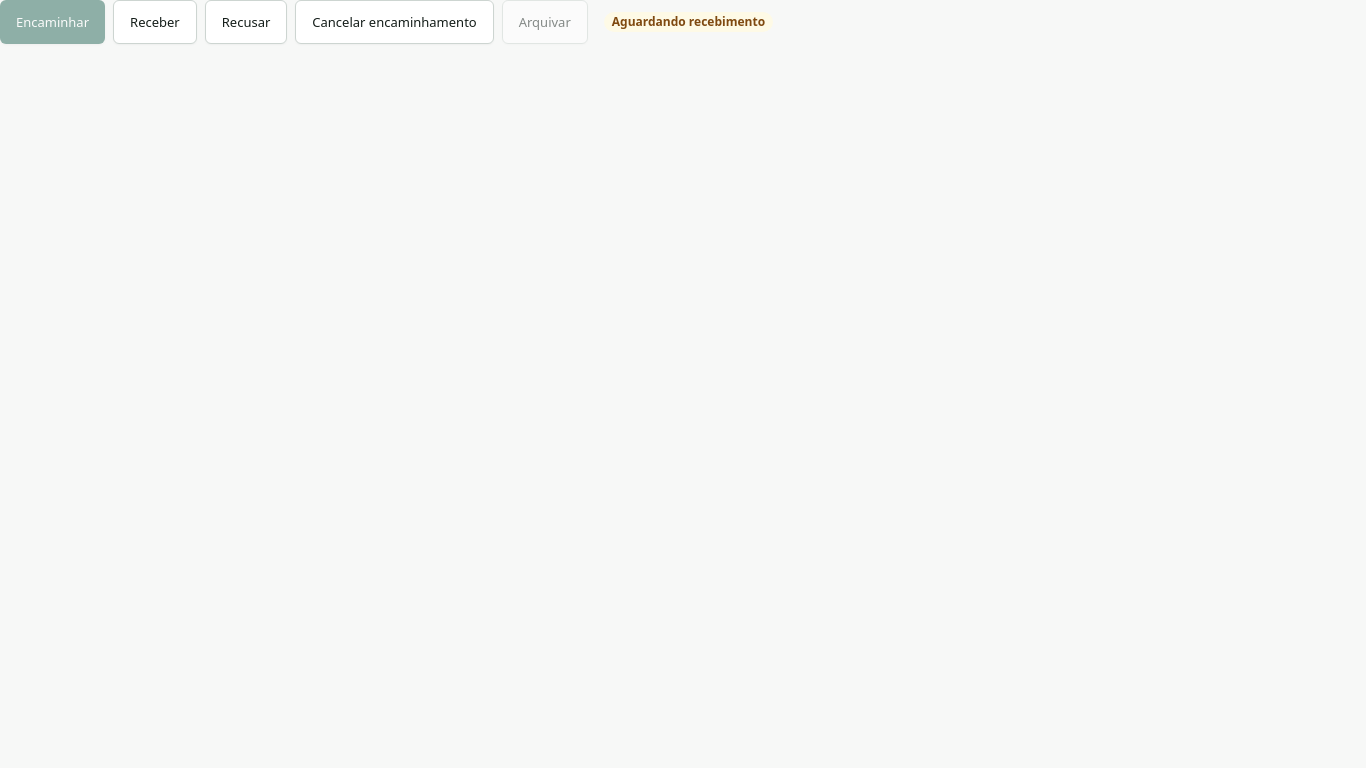
Test: recusar encaminhamento › envia o motivo sem espaços nas pontas e fecha
Click the button "Recusar" at (246, 22), box [205,0,287,44]
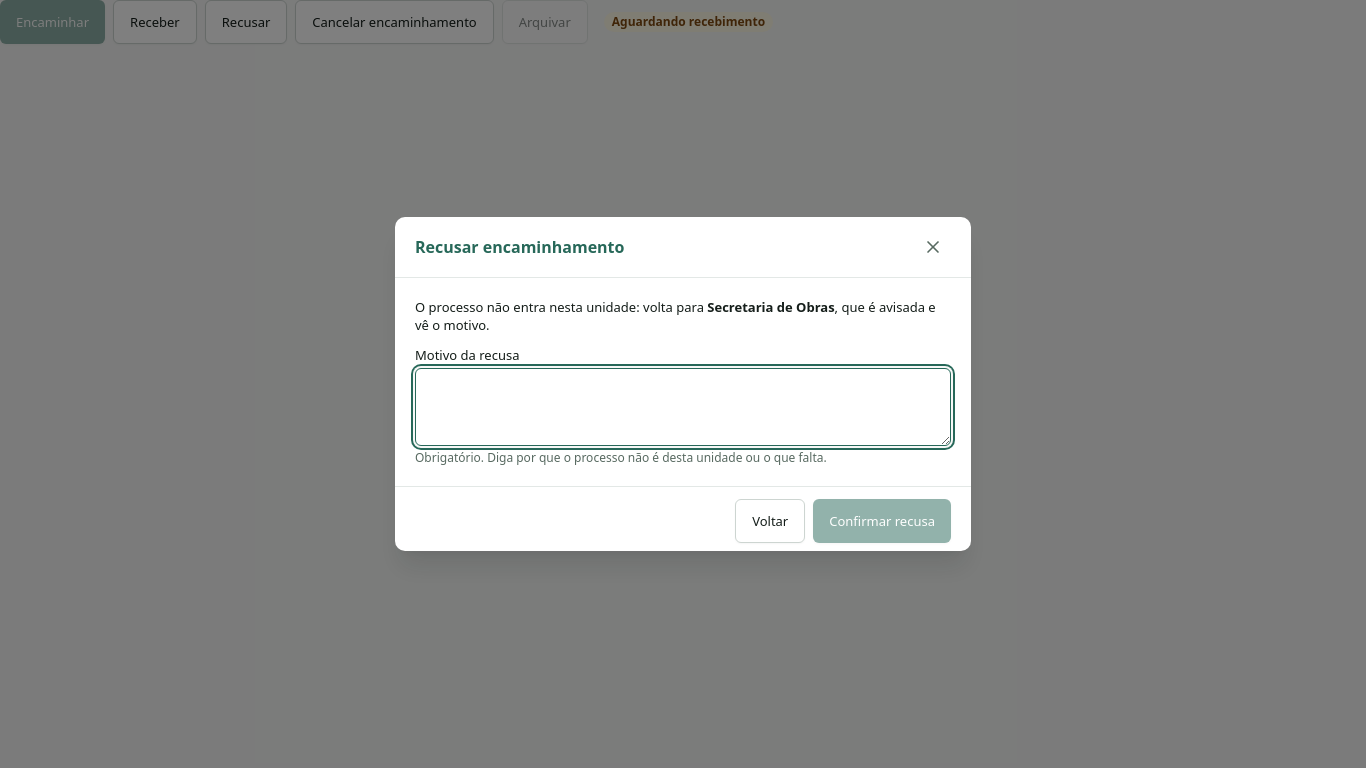
Type "  Não é da competência desta unidade.  " into the text box labelled "Motivo da recusa" at (683, 407), box [415,368,951,446]
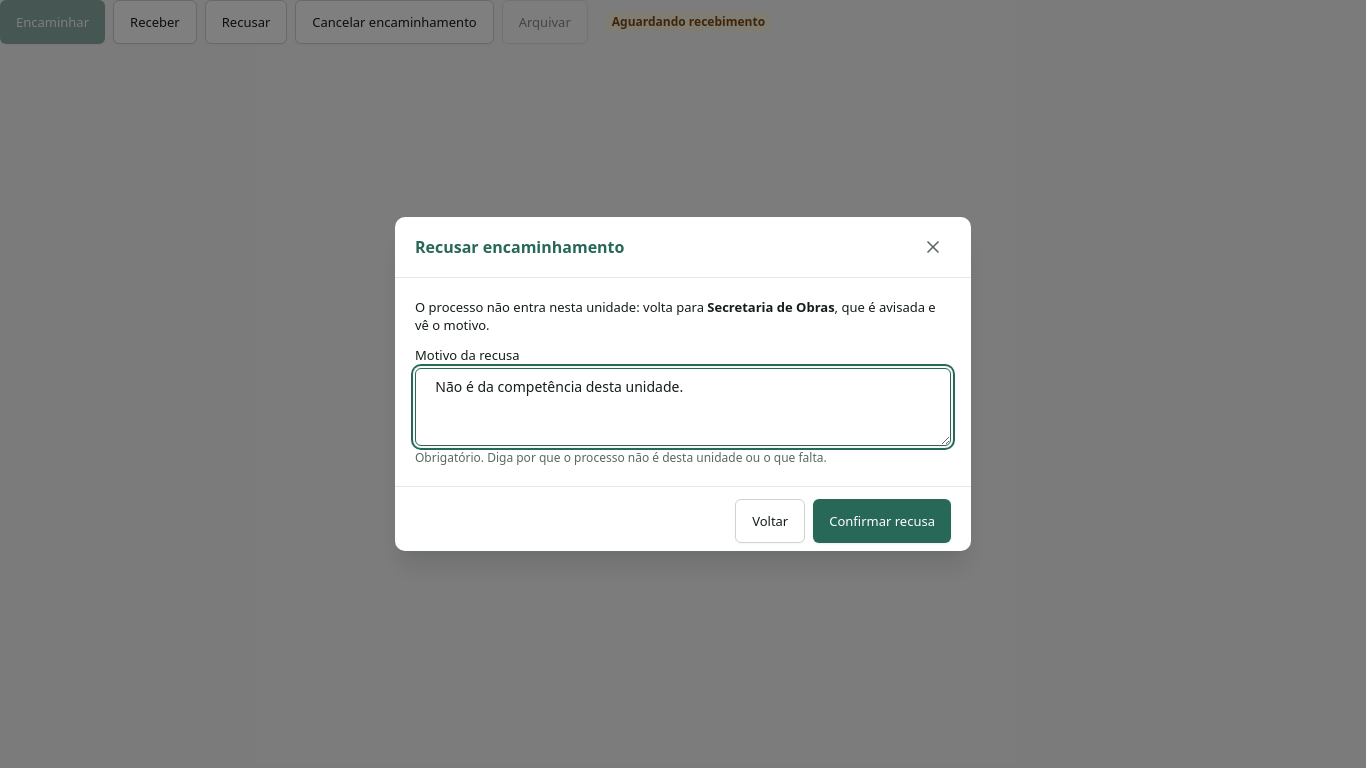
Click the button "Confirmar recusa" at (882, 521), box [813,499,951,543]
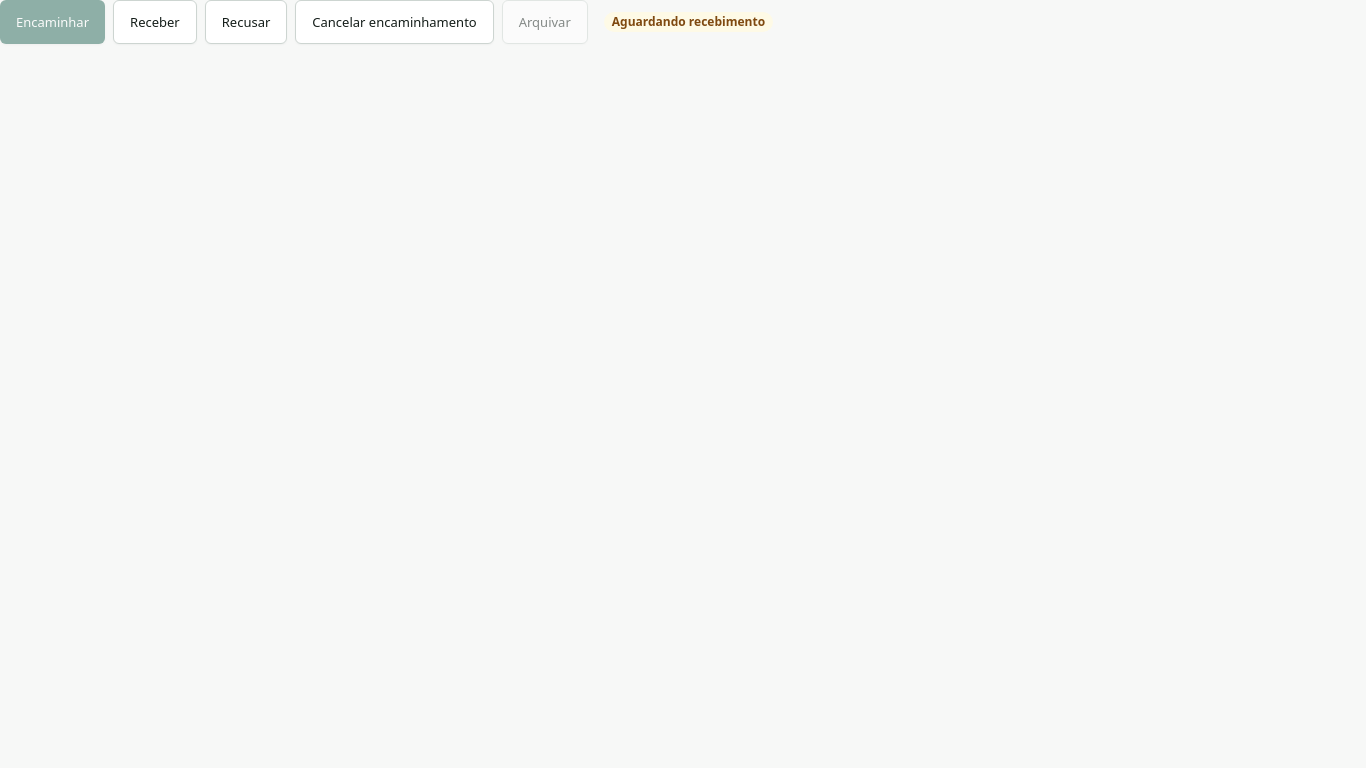
Check: the label labelled "Motivo da recusa" is gone
